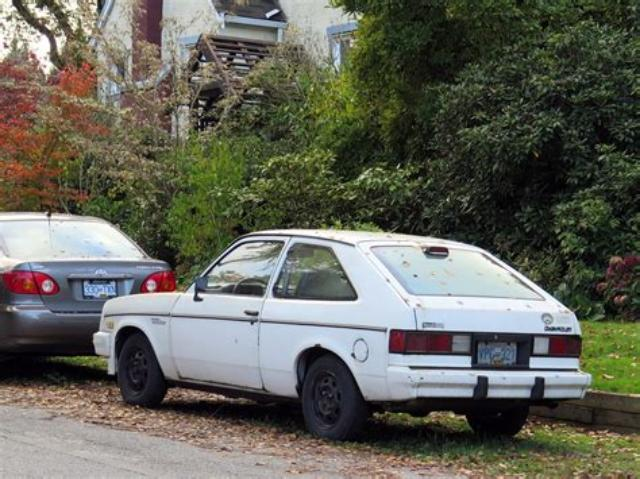chevette-1983: (93, 230, 590, 439)
